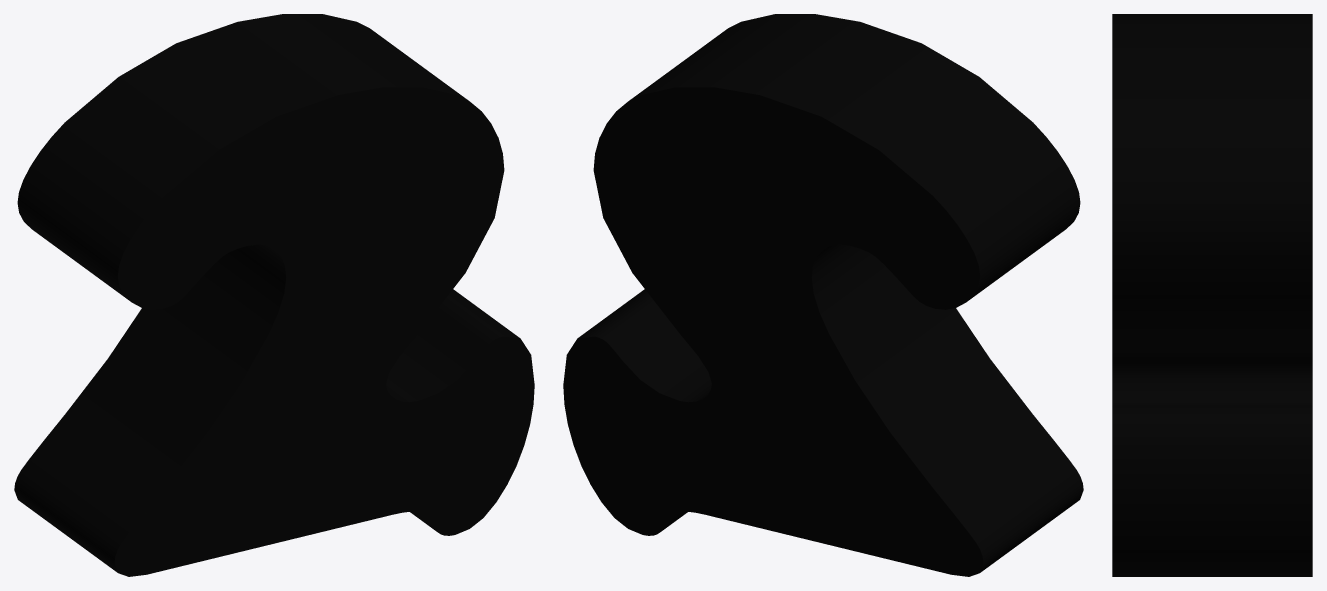
The picture shows the model from 3 angles, left to right: view 1: azimuth 30°, elevation 25°; view 2: azimuth 150°, elevation 25°; view 3: azimuth 270°, elevation 25°; orthographic projection.
Visible parts, largest first — view 1: node_id35; view 2: node_id35; view 3: node_id35.
Part boxes in pixels (<box>): node_id35: <box>14,14,534,576</box>; node_id35: <box>563,14,1083,576</box>; node_id35: <box>1112,14,1312,576</box>.
Size of the model in its own units: 0.0363 by 0.0387 by 0.015.
1 material, 1 textured.
